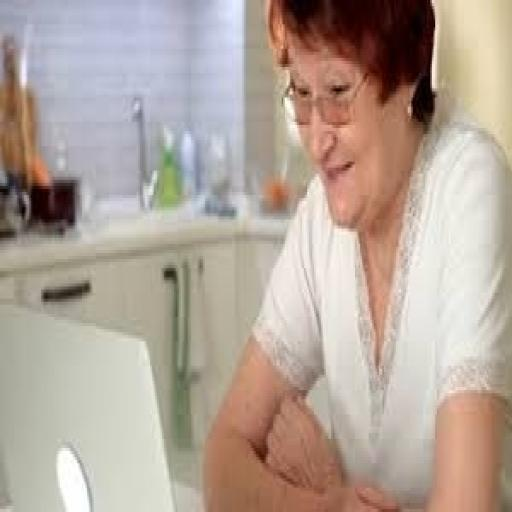using_laptop: (0, 201, 307, 512)
